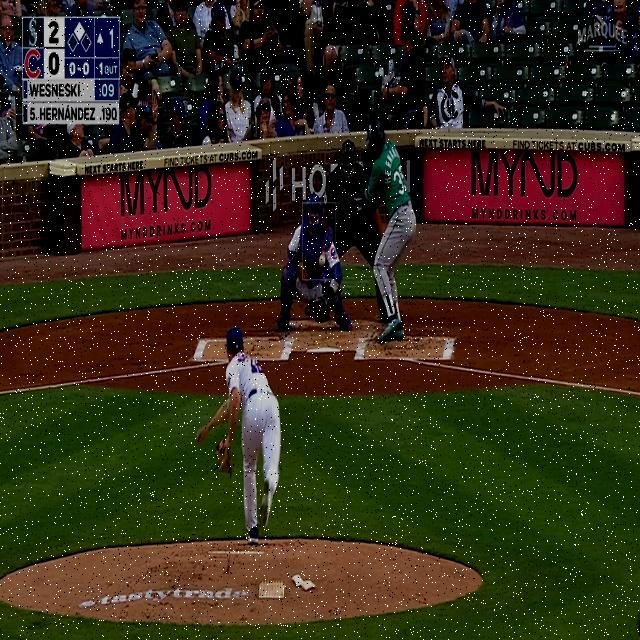baseball: (318, 254, 326, 267)
